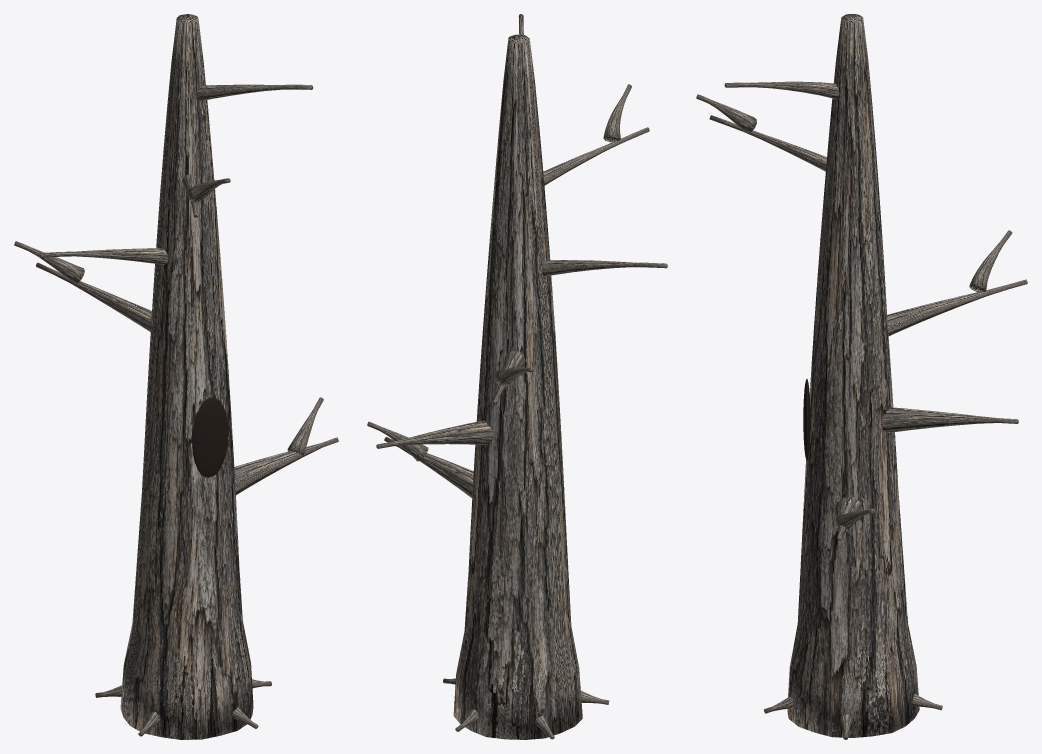
File: upright-snag-v01.glb
3 renders of one model, left to right at view 1: azimuth 30°, elevation 25°; view 2: azimuth 150°, elevation 25°; view 3: azimuth 270°, elevation 25°, orthographic. The views are drawn at different scales.
Visible parts, largest first — view 1: tronco vertical sem inclinação, cavidade pequena na casca, galho firme ascendente, galho firme ascendente.002, galho firme ascendente.003, galho firme ascendente.005, ramo fino ascendente.001, ramo fino ascendente; view 2: tronco vertical sem inclinação, galho firme ascendente.001, galho firme ascendente.003, galho firme ascendente, galho firme ascendente.004, ramo fino ascendente.002, ramo fino ascendente; view 3: tronco vertical sem inclinação, galho firme ascendente.001, galho firme ascendente.002, galho firme ascendente.005, galho firme ascendente.004, ramo fino ascendente.001, ramo fino ascendente.002.
Boxes of the visible parts, box(x1,y1,x2,y2) form: tronco vertical sem inclinação: box(120, 14, 253, 739); cavidade pequena na casca: box(192, 397, 228, 477); galho firme ascendente: box(234, 437, 338, 494); galho firme ascendente.002: box(36, 262, 151, 331); galho firme ascendente.003: box(39, 248, 168, 264); galho firme ascendente.005: box(196, 84, 313, 101); ramo fino ascendente.001: box(14, 241, 84, 283); ramo fino ascendente: box(287, 397, 323, 456); tronco vertical sem inclinação: box(453, 34, 582, 739); galho firme ascendente.001: box(376, 420, 493, 448); galho firme ascendente.003: box(541, 260, 667, 276); galho firme ascendente: box(384, 437, 473, 497); galho firme ascendente.004: box(543, 127, 649, 185); ramo fino ascendente.002: box(603, 84, 631, 142); ramo fino ascendente: box(367, 421, 428, 461); tronco vertical sem inclinação: box(787, 14, 919, 737); galho firme ascendente.001: box(881, 407, 1018, 432); galho firme ascendente.002: box(887, 279, 1027, 335); galho firme ascendente.005: box(724, 81, 839, 98); galho firme ascendente.004: box(709, 115, 826, 171); ramo fino ascendente.001: box(969, 230, 1012, 292); ramo fino ascendente.002: box(696, 94, 756, 132).
Size of the model in its own units: 1.7 by 3.8 by 1.65.
2 materials, 1 textured.
